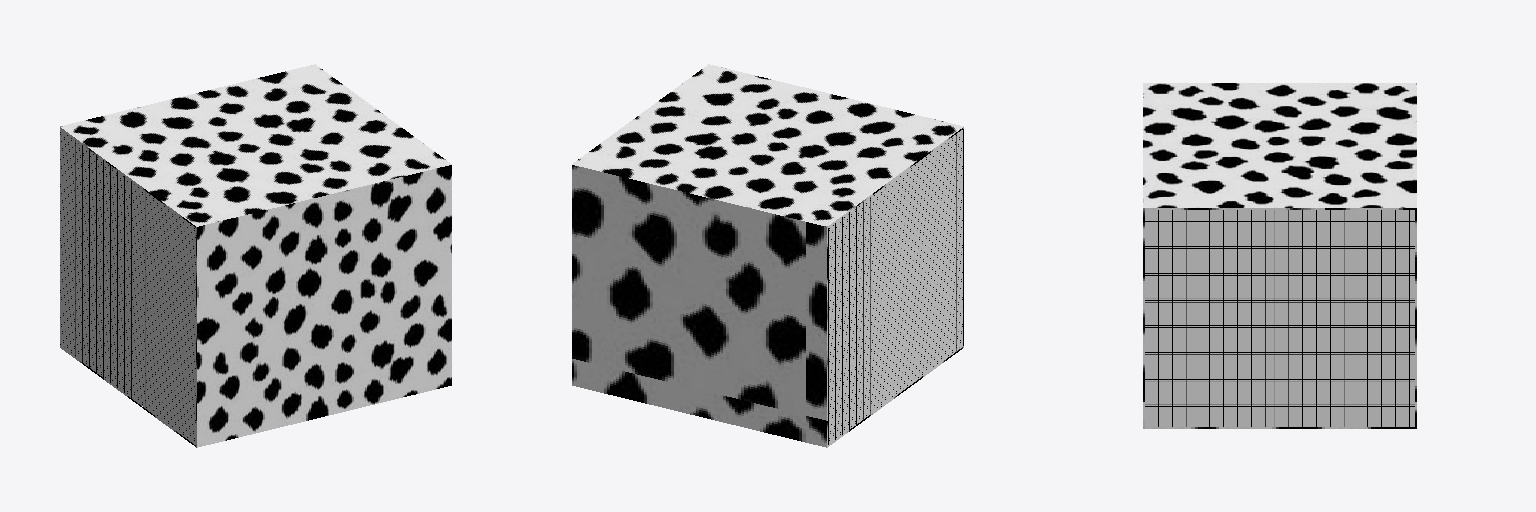
3 renders of one model, left to right at view 1: azimuth 30°, elevation 25°; view 2: azimuth 150°, elevation 25°; view 3: azimuth 270°, elevation 25°, orthographic.
Visible parts, largest first — view 1: MIN#5.001_Mesh_16.002, MAXI_EDXTRA#1.001_Mesh_31.002; view 2: MIN#5.001_Mesh_16.002, MAXI_EDXTRA#1.001_Mesh_31.002; view 3: MAXI_EDXTRA#1.001_Mesh_31.002, MIN#5.001_Mesh_16.002.
Part boxes in pixels (left/top/right/bottom): MIN#5.001_Mesh_16.002: left=60, top=64, right=451, bottom=447; MAXI_EDXTRA#1.001_Mesh_31.002: left=60, top=129, right=195, bottom=444; MIN#5.001_Mesh_16.002: left=572, top=64, right=963, bottom=447; MAXI_EDXTRA#1.001_Mesh_31.002: left=828, top=129, right=963, bottom=444; MAXI_EDXTRA#1.001_Mesh_31.002: left=1145, top=210, right=1414, bottom=426; MIN#5.001_Mesh_16.002: left=1143, top=83, right=1416, bottom=428.
Size of the model in its own units: 0.327 by 0.27 by 0.304.
2 materials, 2 textured.